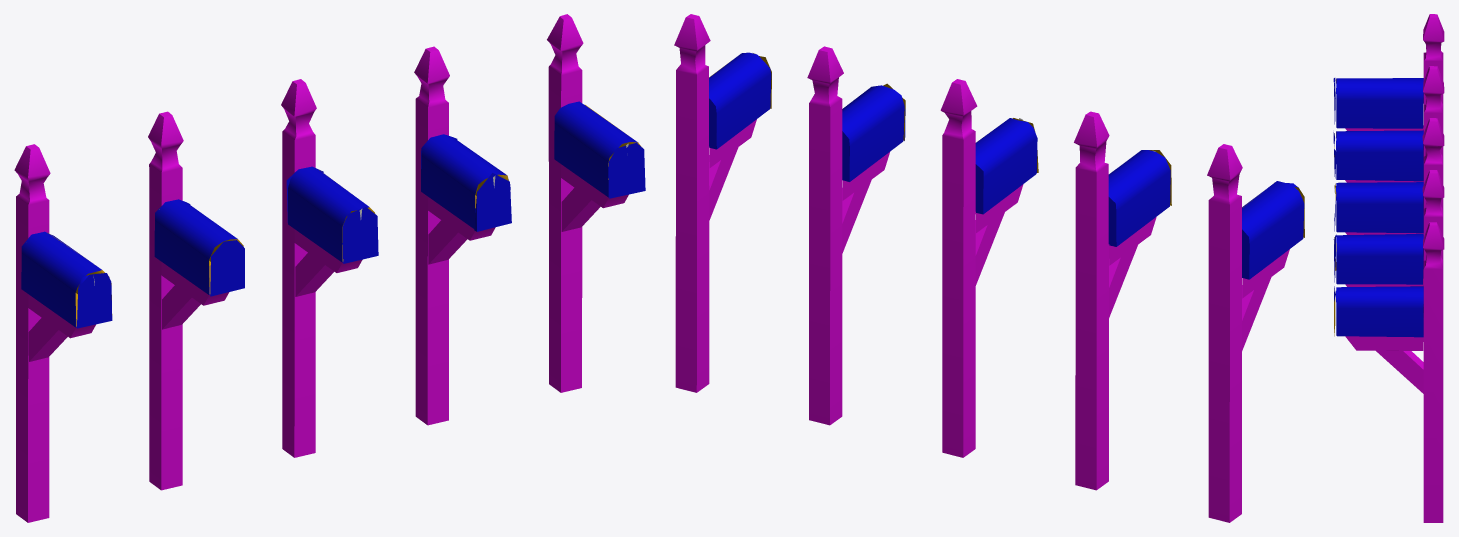
The model's file is Mailboxes.glb.
3 views of the same model, side by side, from view 1: azimuth 30°, elevation 25°; view 2: azimuth 150°, elevation 25°; view 3: azimuth 270°, elevation 25° (orthographic). The views are drawn at different scales.
Visible parts, largest first — view 1: Mailboxes; view 2: Mailboxes; view 3: Mailboxes.
Boxes of the visible parts, x1=… form: Mailboxes: x1=14, y1=14, x2=645, y2=522; Mailboxes: x1=674, y1=14, x2=1304, y2=522; Mailboxes: x1=1333, y1=14, x2=1444, y2=522.
Bounding box in the file's own units: 2.13 × 1.32 × 0.4512.
